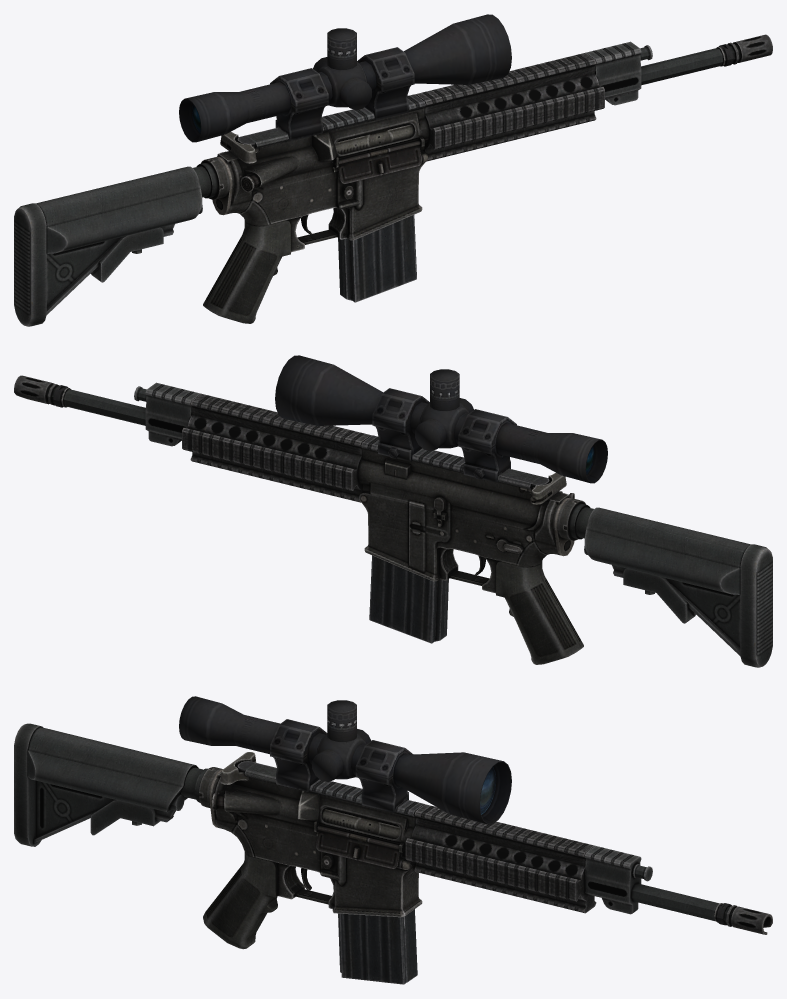
The model's file is qiang2+danjia.FBX.
3 renders of one model, top to bottom at view 1: azimuth 30°, elevation 25°; view 2: azimuth 150°, elevation 25°; view 3: azimuth 330°, elevation 25°, orthographic.
Parts seen in each view (by area): view 1: AssaultRifle09_Body01, danjia; view 2: AssaultRifle09_Body01, danjia; view 3: AssaultRifle09_Body01, danjia.
Part boxes in pixels (x1,y1,x2,y2): AssaultRifle09_Body01: (14,14,772,326); danjia: (338,215,416,302); AssaultRifle09_Body01: (14,355,772,667); danjia: (369,555,448,643); AssaultRifle09_Body01: (14,696,772,949); danjia: (338,909,417,984).
Size of the model in its own units: 77.6 by 26.32 by 6.83.
